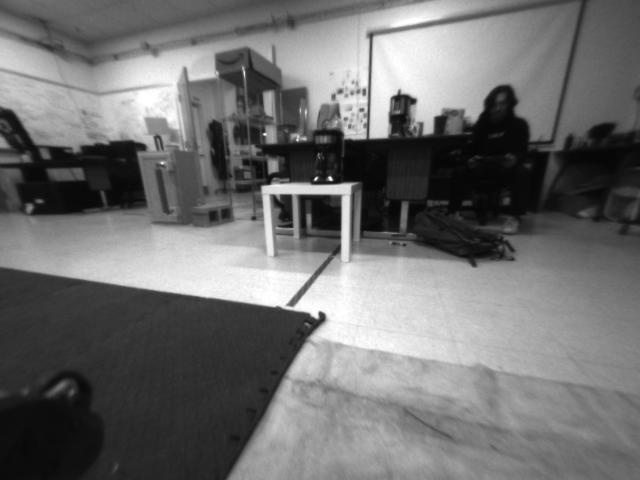coffee_pot: (308, 126, 347, 186)
